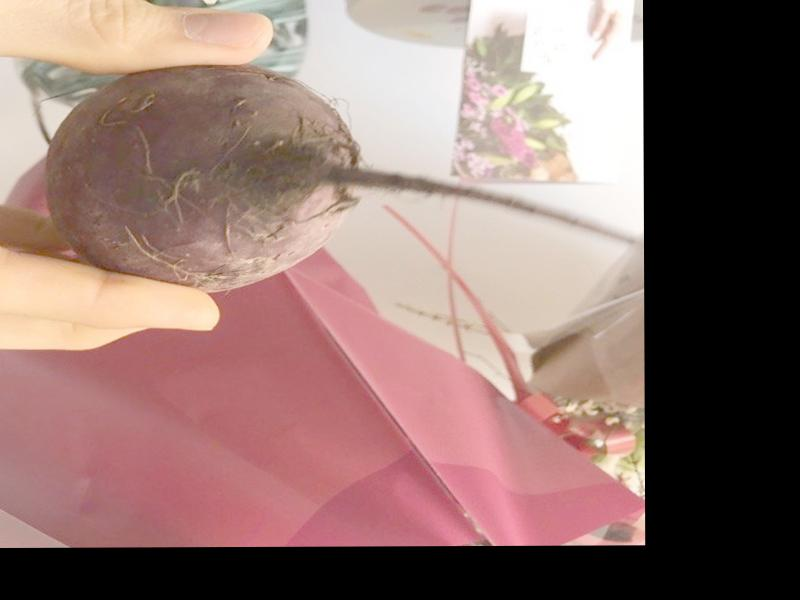Beet: (36, 62, 644, 292)
